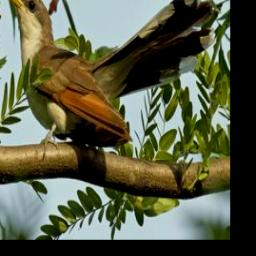Cuckoo: (1, 0, 217, 151)
